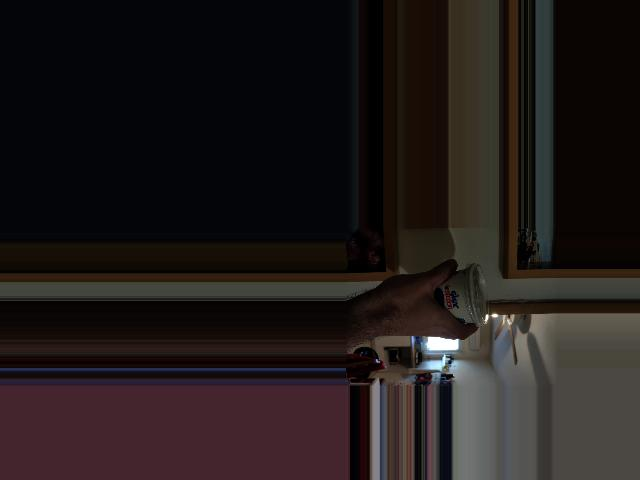cotage: (419, 266, 490, 331)
